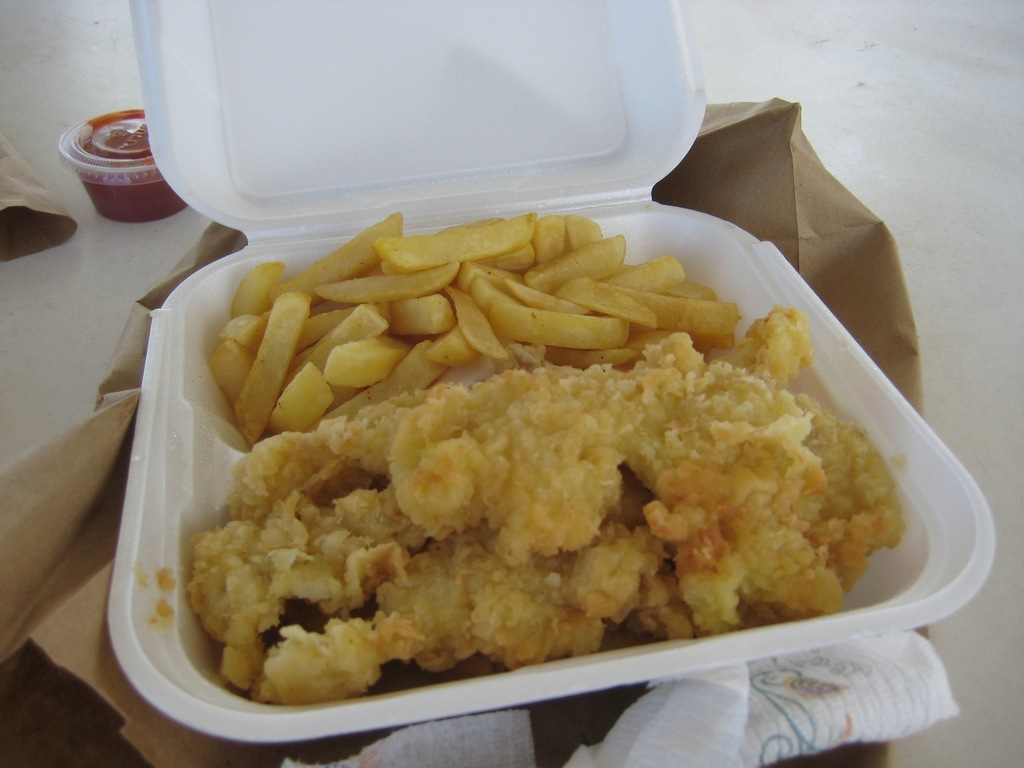French fries: (172, 201, 732, 444)
